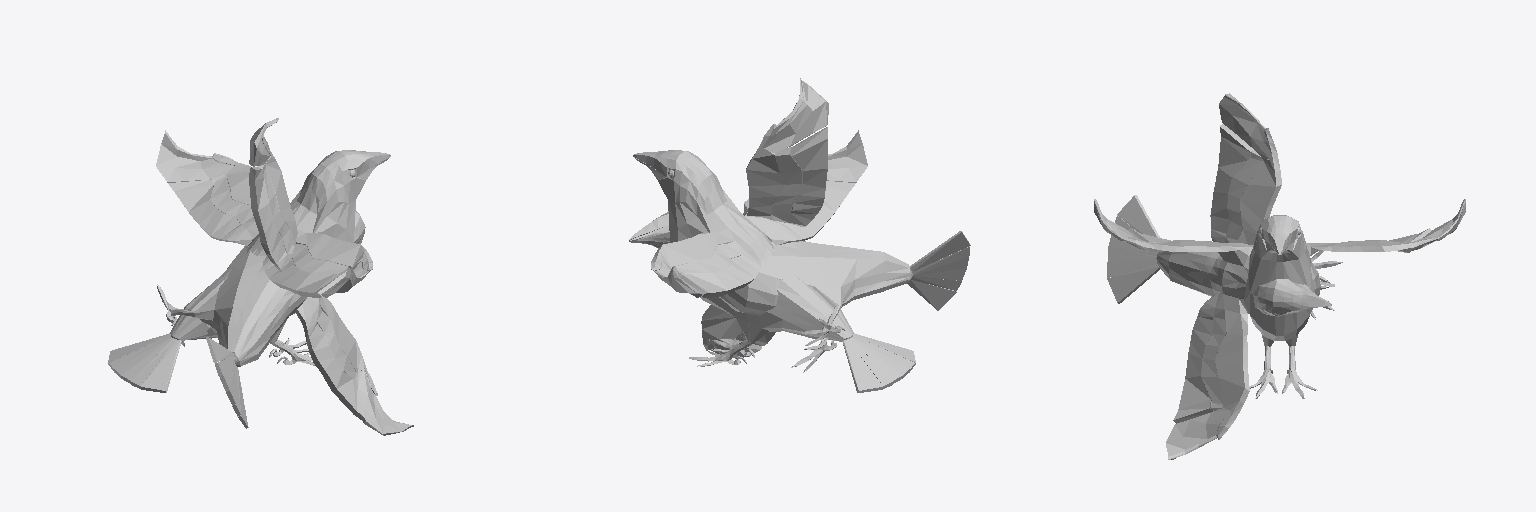
Rendered from Kruk.obj.
3 views of the same model, side by side, from view 1: azimuth 30°, elevation 25°; view 2: azimuth 150°, elevation 25°; view 3: azimuth 270°, elevation 25° (orthographic).
Parts seen in each view (by area): view 1: Cube.001_Cube.000, Cube_Cube.001; view 2: Cube.001_Cube.000, Cube_Cube.001; view 3: Cube_Cube.001, Cube.001_Cube.000.
Part boxes in pixels (x1,y1,x2,y2): Cube.001_Cube.000: (108,130,390,392); Cube_Cube.001: (157,118,413,435); Cube.001_Cube.000: (633,130,915,392); Cube_Cube.001: (629,78,970,372); Cube_Cube.001: (1107,93,1342,459); Cube.001_Cube.000: (1094,199,1465,398).
Bounding box in the file's own units: 8.3 × 9.36 × 9.94.